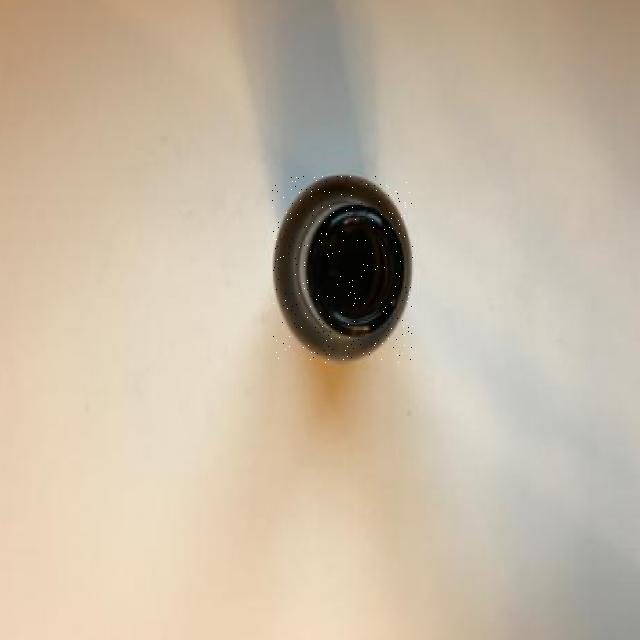glass: (272, 176, 413, 363)
